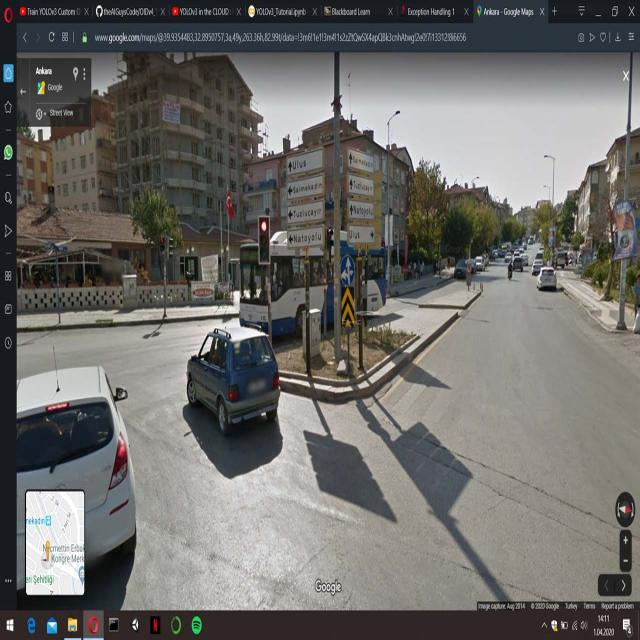ilerisol: (339, 253, 356, 288)
kirmizi: (259, 216, 271, 265)
